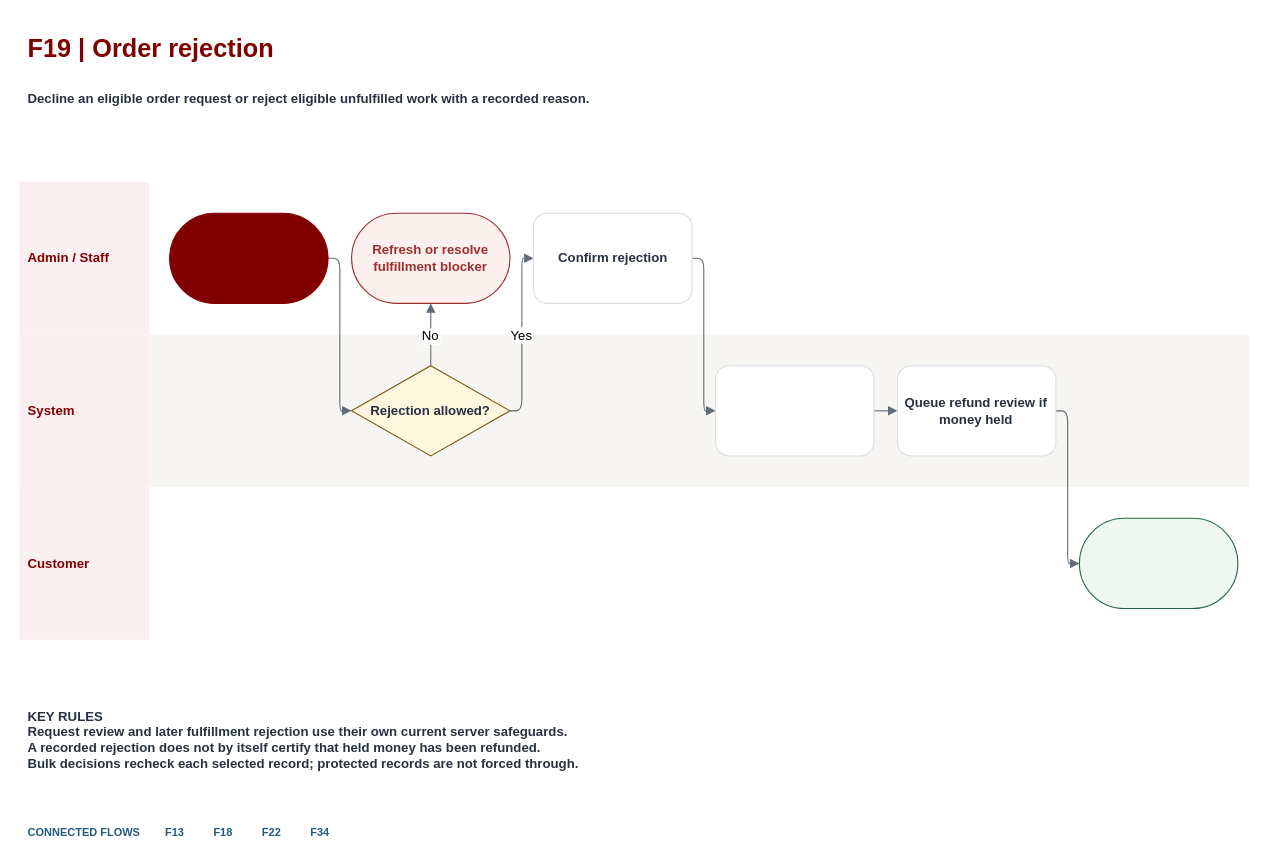
Some shapes in this 1268 by 860 pixel diagram are drawn without their labels. Here are the shapes that lost their labels. From the top down, the centre of each, then its label:
pixel 248 257: Review current order and reason
pixel 794 410: Record decision and release eligibility
pixel 1158 563: Read declined order and reason
